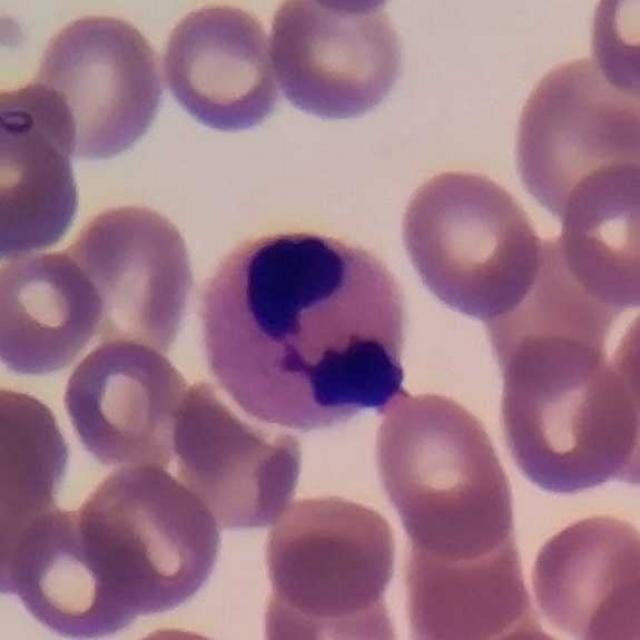Neutrophil: (187, 216, 418, 437)
RBC: (368, 385, 521, 563), (72, 458, 227, 619), (52, 194, 200, 360), (492, 335, 640, 500), (395, 162, 548, 320), (505, 48, 640, 226), (22, 6, 168, 167), (166, 381, 306, 536), (485, 237, 616, 397), (3, 504, 154, 639), (258, 487, 403, 620), (262, 0, 411, 126), (396, 507, 535, 640), (156, 0, 285, 138), (59, 335, 190, 468), (0, 81, 86, 266), (525, 507, 639, 640), (0, 246, 108, 381), (553, 157, 640, 310), (0, 380, 76, 520), (255, 572, 407, 640), (584, 342, 639, 503), (582, 0, 640, 102), (579, 571, 640, 640), (613, 292, 640, 433), (438, 622, 604, 640), (101, 621, 256, 640), (284, 0, 416, 17)
